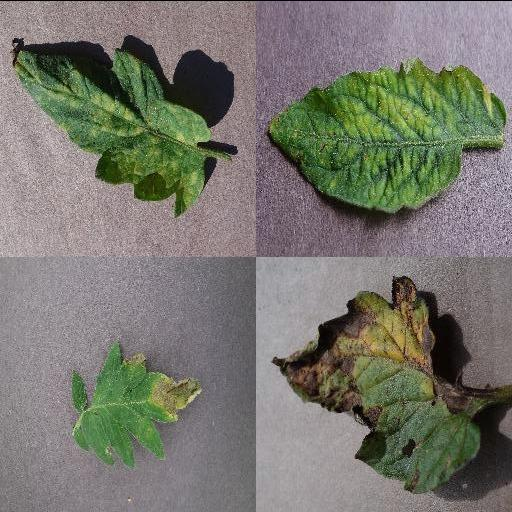Early Blight: (268, 274, 482, 489)
Late Blight: (71, 341, 203, 467)
Leaf Mold: (11, 47, 211, 219)
Mosaic Virus: (268, 58, 508, 216)
